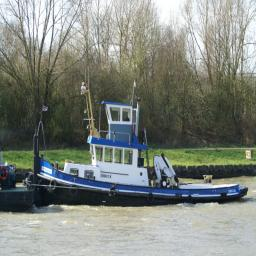tugboat: (27, 89, 250, 212)
